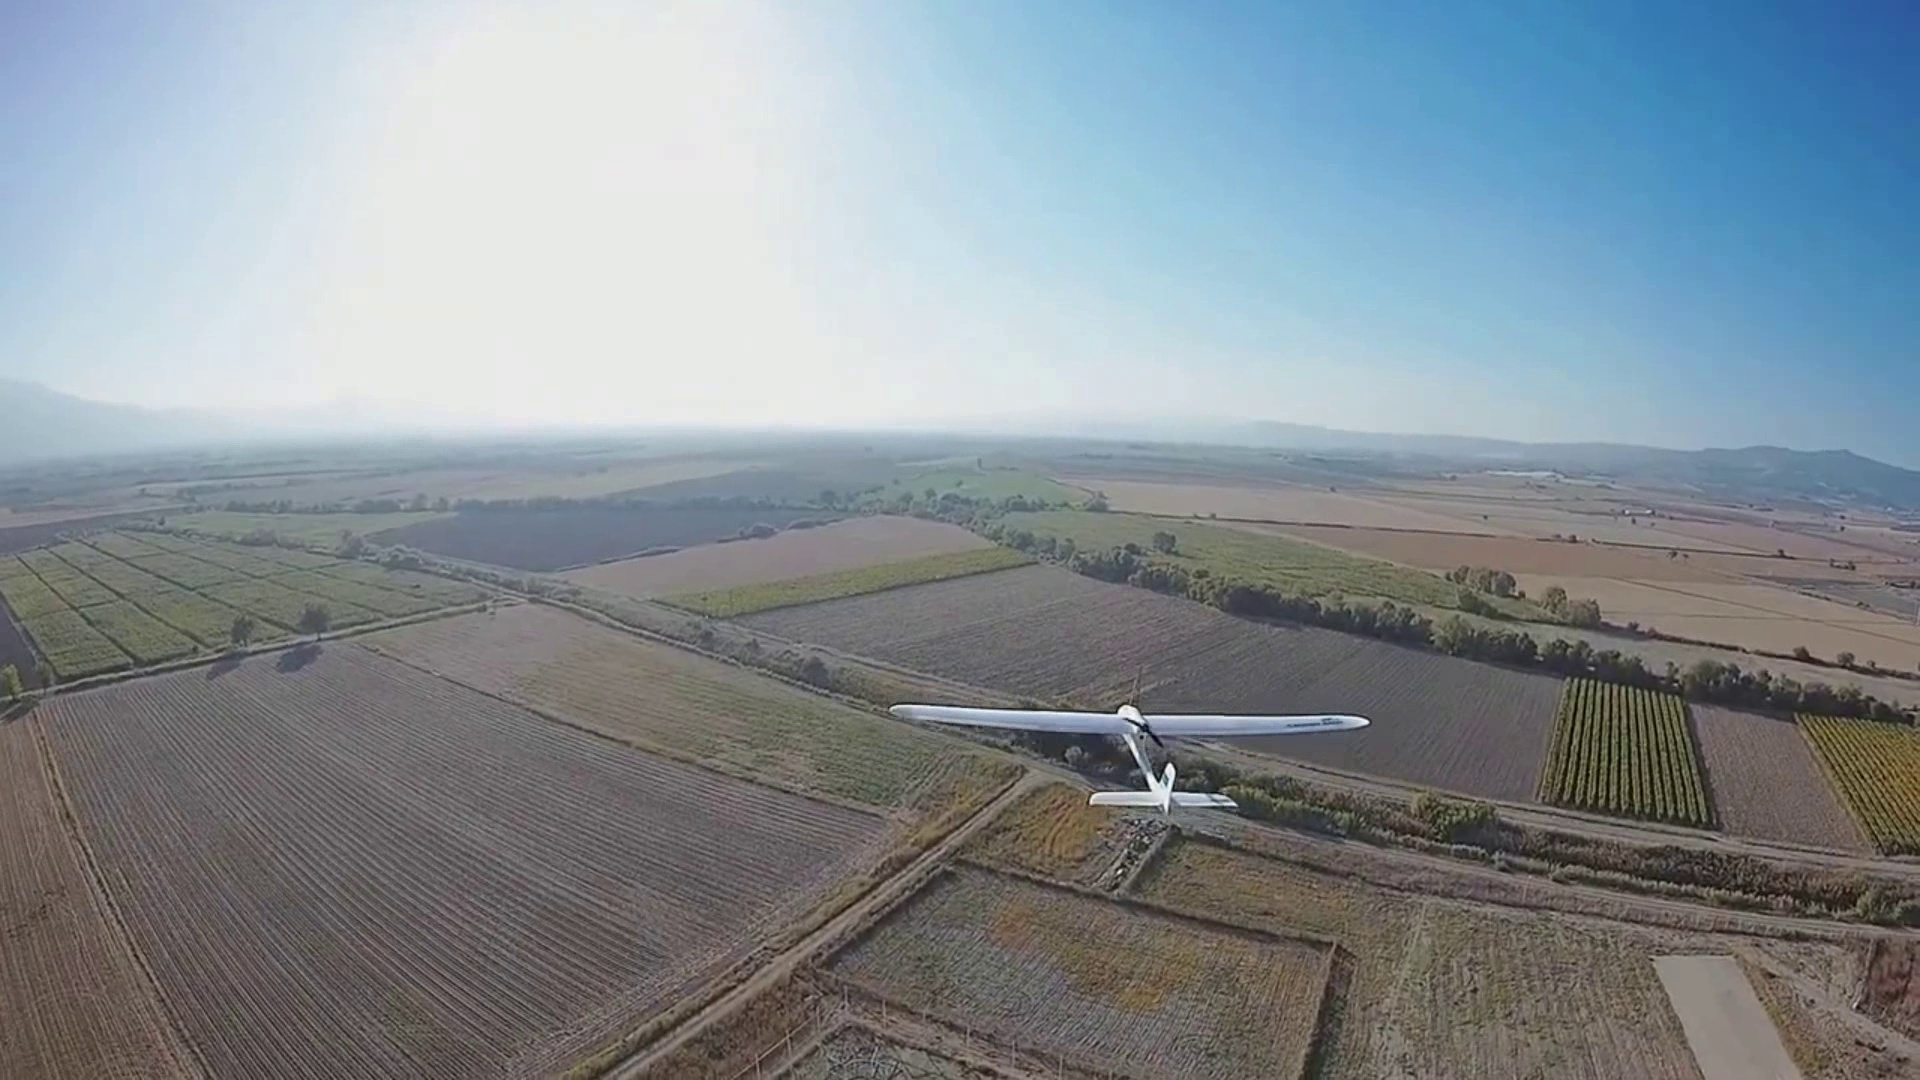airplane: (882, 690, 1372, 813)
